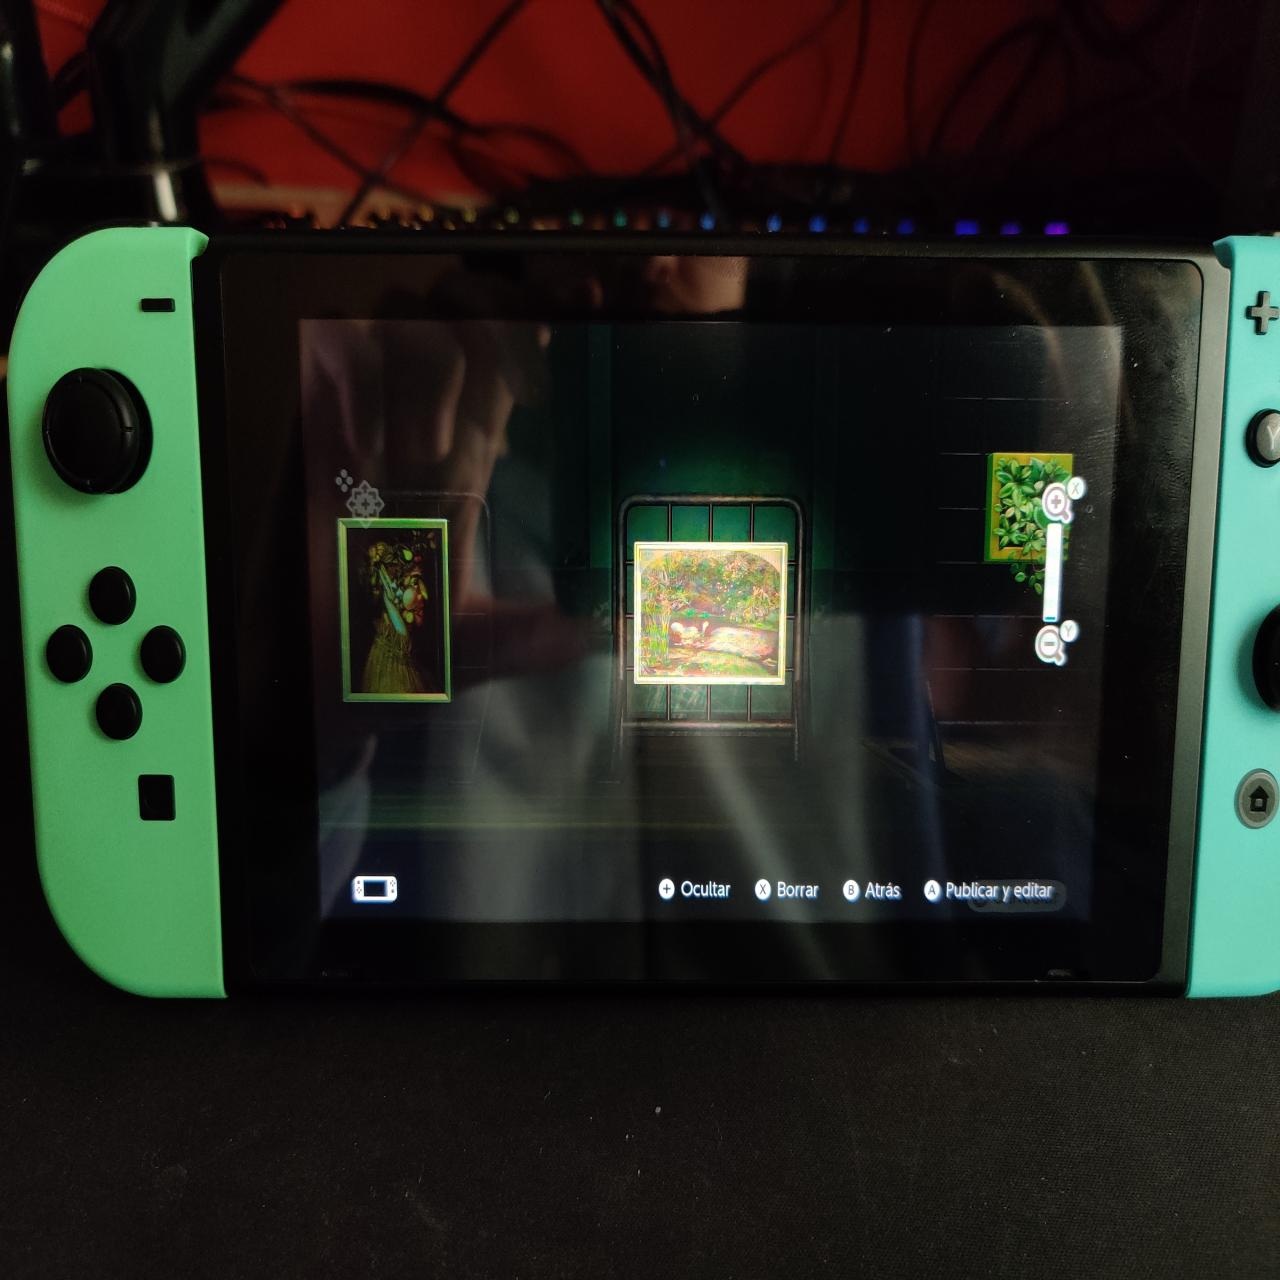Ophelia: (644, 550, 781, 682)
SummerFake: (348, 527, 449, 697)
